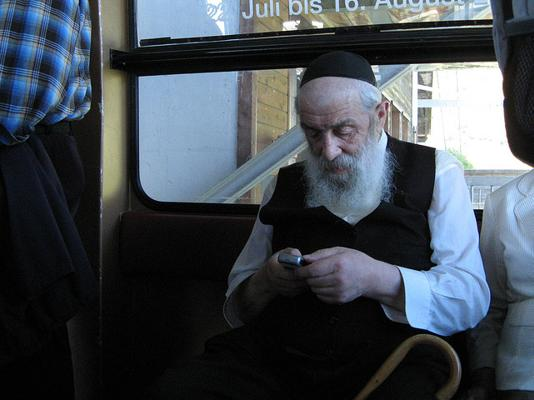person: (223, 52, 492, 400)
